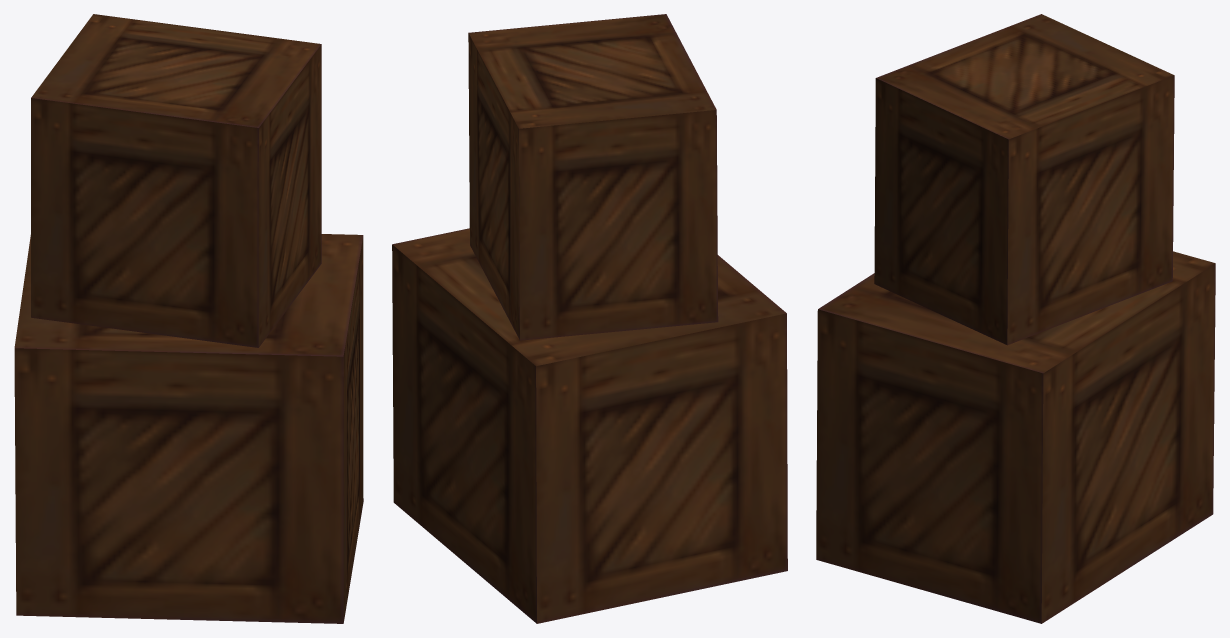
Rendered from Dungeons_03_02_18.FBX.
3 renders of one model, left to right at view 1: azimuth 30°, elevation 25°; view 2: azimuth 150°, elevation 25°; view 3: azimuth 270°, elevation 25°, orthographic. The views are drawn at different scales.
Visible parts, largest first — view 1: Object345; view 2: Object345; view 3: Object345.
Boxes of the visible parts, <box> form: Object345: <box>14,14,363,623</box>; Object345: <box>392,14,787,623</box>; Object345: <box>816,14,1215,623</box>.
Bounding box in the file's own units: 19.92 × 24.48 × 19.38.
